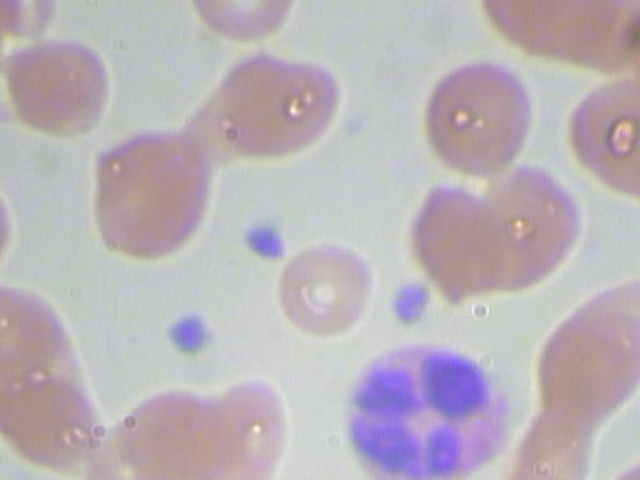Platelets: (159, 307, 223, 357), (381, 279, 434, 332), (240, 219, 291, 270)
RBC: (81, 125, 213, 266), (399, 178, 517, 308), (527, 298, 640, 432), (421, 57, 542, 181), (217, 46, 347, 161), (0, 28, 122, 141), (265, 240, 385, 345), (113, 378, 233, 480), (562, 70, 640, 209), (184, 0, 304, 48)
WBC: (335, 338, 519, 480)
